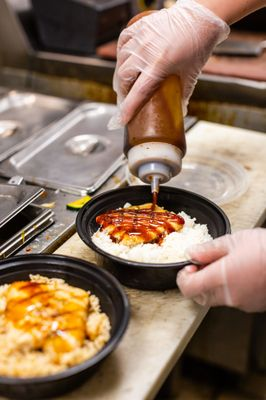sushi: (0, 255, 130, 398)
